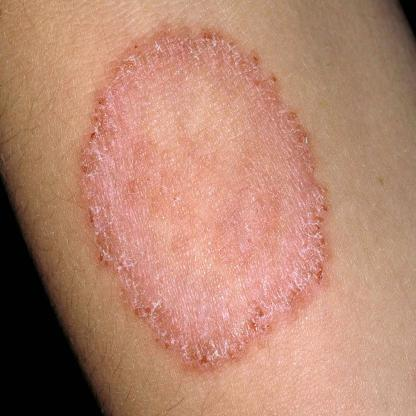Ringworm: (70, 7, 344, 376)
